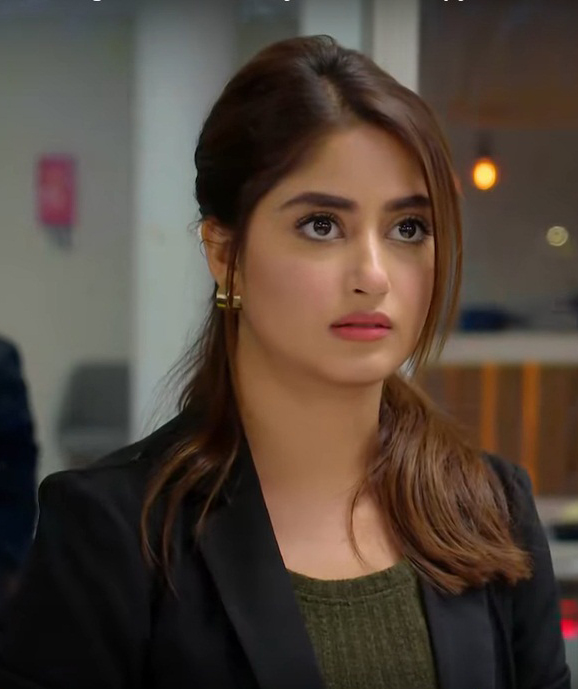NoMask: (268, 180, 435, 383)
